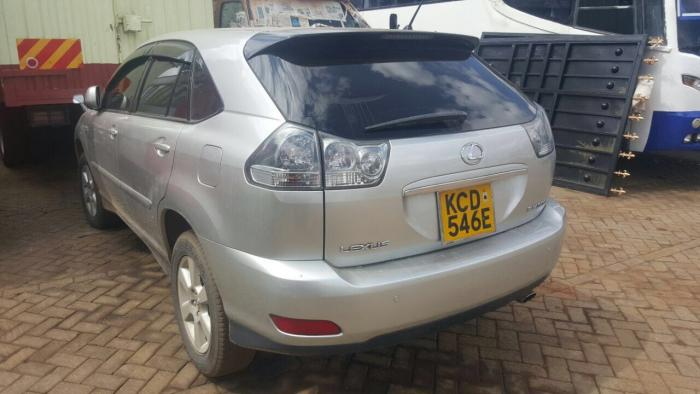licencePlate: (433, 182, 506, 243)
